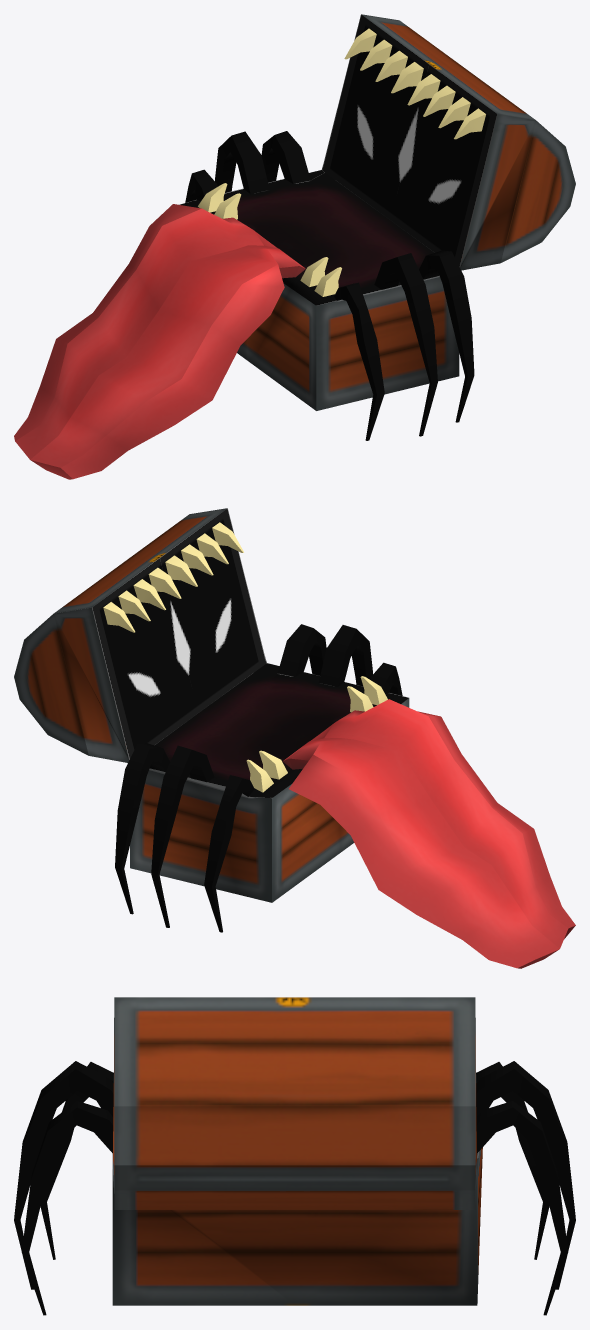
Rendered from cofrearana_000066.obj.
3 renders of one model, top to bottom at view 1: azimuth 30°, elevation 25°; view 2: azimuth 150°, elevation 25°; view 3: azimuth 270°, elevation 25°, orthographic. The views are drawn at different scales.
Visible parts, largest first — view 1: cofreArana:Mesh; view 2: cofreArana:Mesh; view 3: cofreArana:Mesh.
Boxes of the visible parts, bbox=[...] form: cofreArana:Mesh: bbox=[14, 14, 575, 479]; cofreArana:Mesh: bbox=[14, 508, 575, 968]; cofreArana:Mesh: bbox=[14, 997, 575, 1315].
Size of the model in its own units: 12.71 by 7.88 by 9.76.
